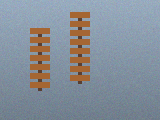insulator: (68, 10, 92, 85), (28, 26, 52, 92)
